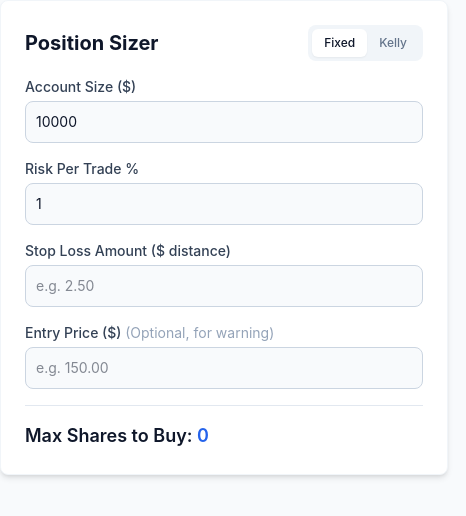
Test case: PositionSizer › calculates Kelly risk percentage correctly
The width and height of the screenshot is (466, 516).
// Switch to Kelly
What coordinates should you click on to do the following:
click the button "Kelly"
I would click on:
 (393, 43)
Its box is [367,29,419,57].
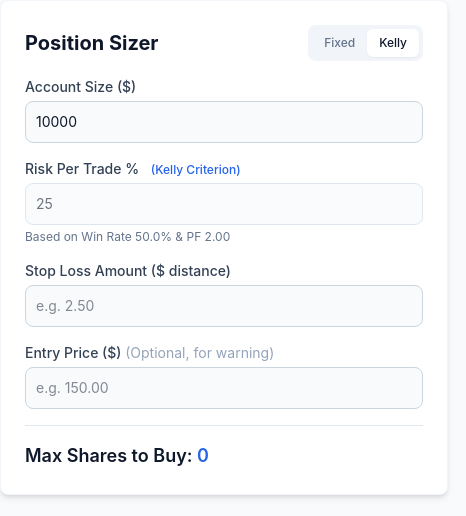
Now the number field labelled "Risk Per Trade % (Kelly Criterion)" holds "25", box [25,183,423,225]
Now the number field labelled "Risk Per Trade % (Kelly Criterion)" is disabled, box [25,183,423,225]
